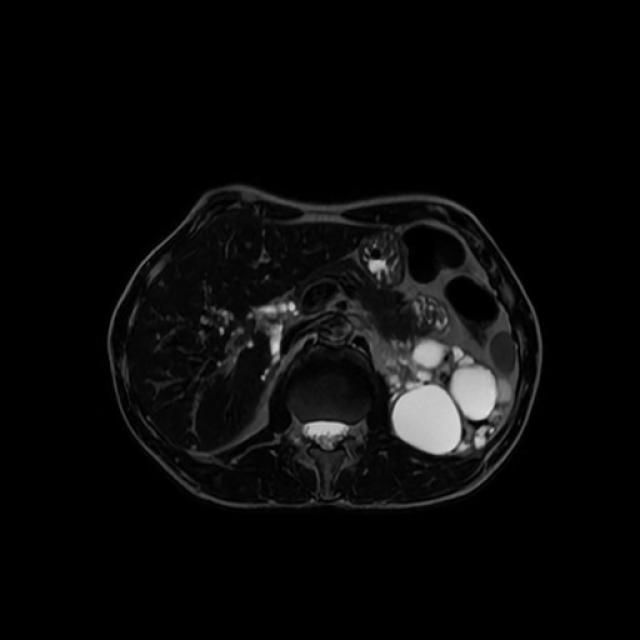sol: (385, 335, 515, 459)
